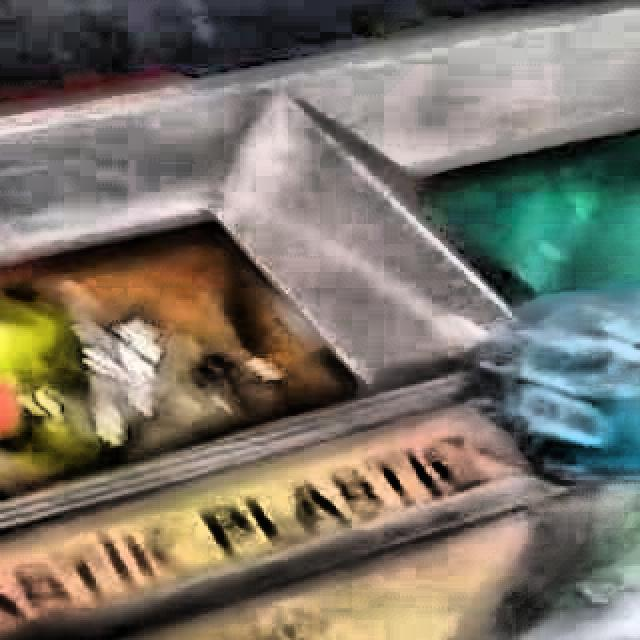plastic: (485, 291, 640, 478)
